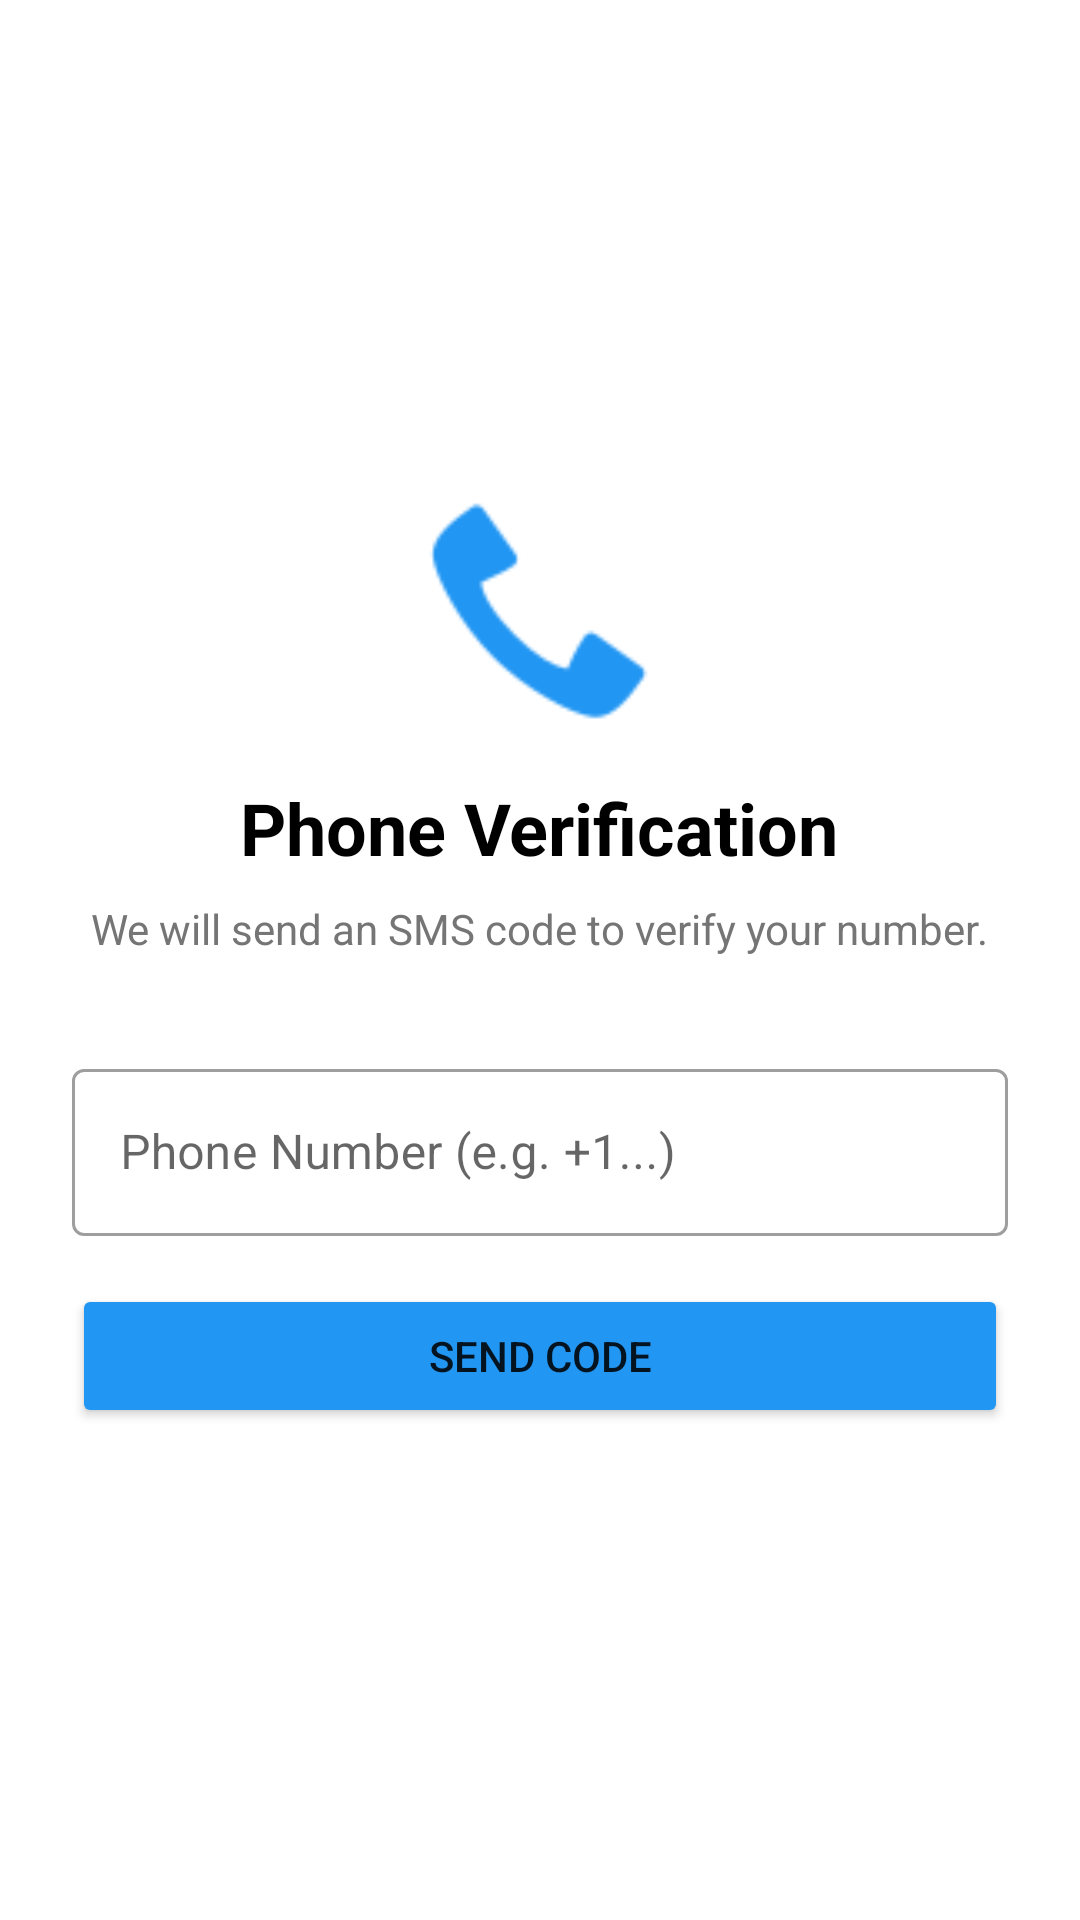

Screen size 1080*1920. Icon name, then its box in pixels as (x1, y1, x2, y2):
phone call: (432, 503, 647, 719)
